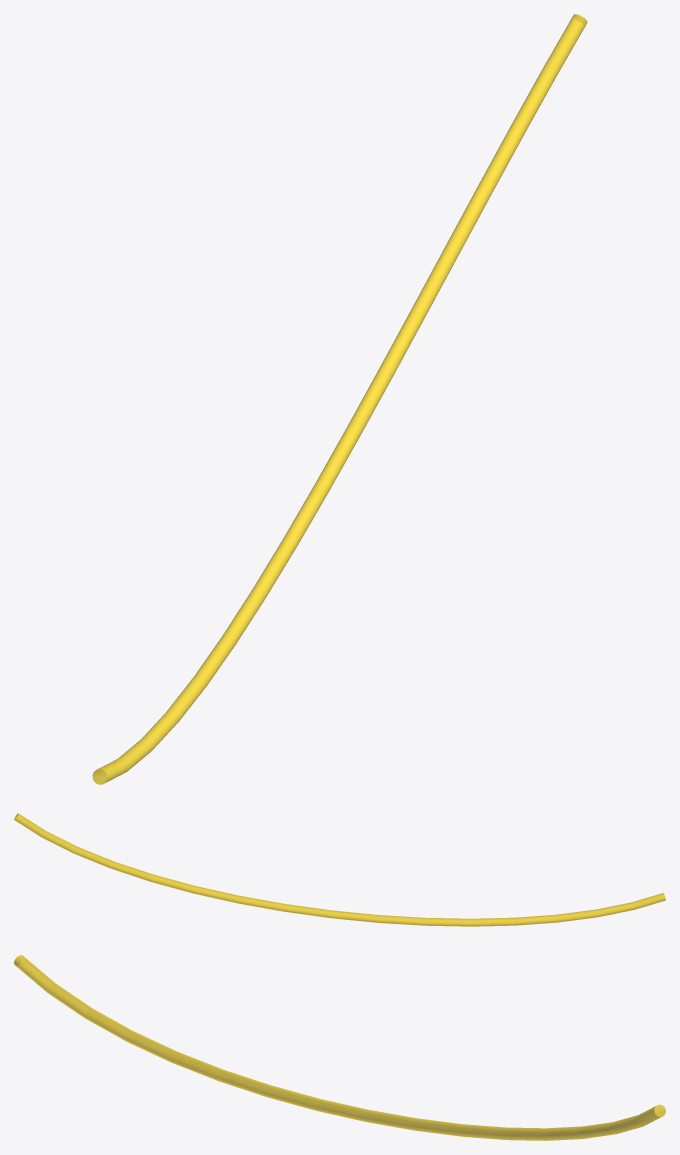
File: Event_17758602_track_175.fbx
3 renders of one model, top to bottom at view 1: azimuth 30°, elevation 25°; view 2: azimuth 150°, elevation 25°; view 3: azimuth 270°, elevation 25°, orthographic. The views are drawn at different scales.
Visible parts, largest first — view 1: Model; view 2: Model; view 3: Model.
Boxes of the visible parts, x1=… form: Model: x1=92, y1=14, x2=587, y2=784; Model: x1=14, y1=813, x2=665, y2=926; Model: x1=14, y1=955, x2=665, y2=1140.
Size of the model in its own units: 2.59 by 0.7769 by 2.07.
